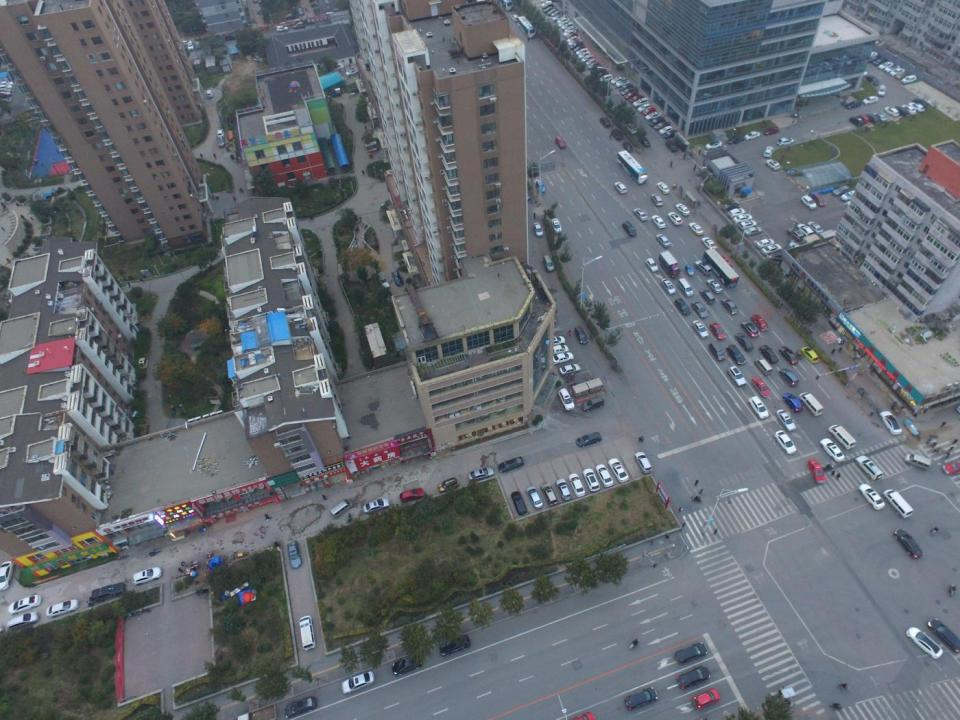bus: (703, 249, 740, 288), (615, 150, 648, 184), (517, 16, 536, 38), (499, 0, 516, 12)
car: (905, 626, 943, 659), (929, 617, 960, 651), (892, 529, 924, 559), (676, 664, 711, 690), (625, 685, 659, 710), (341, 671, 374, 694), (89, 583, 125, 603), (675, 641, 707, 663), (284, 697, 317, 718), (392, 654, 422, 677), (439, 634, 470, 656), (691, 688, 720, 711), (8, 595, 41, 615), (820, 437, 845, 463), (859, 483, 883, 509), (854, 456, 880, 480), (773, 431, 797, 456), (46, 599, 79, 617), (775, 408, 798, 432), (133, 567, 162, 586), (880, 410, 902, 435), (746, 396, 768, 420), (286, 540, 302, 572), (608, 458, 628, 483), (575, 430, 602, 448), (362, 496, 390, 513), (596, 464, 614, 490), (467, 466, 494, 483), (583, 468, 601, 493), (808, 459, 826, 484), (568, 472, 585, 498), (0, 562, 16, 589), (497, 456, 524, 472), (526, 485, 542, 511), (580, 396, 605, 412), (782, 391, 802, 411), (759, 344, 779, 364), (634, 452, 652, 474), (727, 343, 745, 365), (558, 388, 574, 412), (753, 376, 772, 396), (740, 320, 760, 339), (511, 490, 526, 515), (543, 482, 558, 507), (779, 346, 797, 366), (750, 314, 770, 332), (555, 479, 571, 501), (801, 347, 820, 365), (735, 333, 753, 351), (439, 476, 459, 492), (721, 298, 738, 316), (694, 259, 712, 276), (692, 301, 708, 320), (400, 488, 425, 500), (710, 322, 726, 340), (693, 320, 709, 338), (706, 278, 722, 296), (574, 326, 589, 344), (674, 299, 692, 314), (552, 352, 576, 363), (560, 362, 580, 375), (662, 277, 675, 297), (699, 288, 715, 304), (800, 195, 817, 210), (762, 243, 781, 256), (841, 188, 860, 201), (720, 255, 734, 272), (941, 463, 960, 475), (656, 234, 672, 248), (623, 220, 637, 236), (770, 249, 784, 265), (813, 194, 827, 210), (701, 237, 718, 250), (807, 221, 824, 234), (732, 213, 752, 224), (882, 106, 900, 118), (634, 208, 648, 223), (674, 203, 690, 216), (764, 124, 780, 137), (551, 217, 563, 234), (788, 228, 805, 240), (552, 346, 570, 357), (912, 98, 930, 109), (668, 213, 683, 226), (688, 223, 703, 236), (646, 258, 658, 274), (766, 159, 782, 171), (863, 74, 879, 86), (554, 136, 568, 149), (613, 182, 627, 195), (651, 216, 665, 229), (798, 223, 812, 236), (738, 220, 756, 230), (649, 116, 667, 126), (848, 116, 864, 127), (744, 130, 760, 141), (908, 102, 924, 113), (744, 226, 761, 236), (651, 194, 664, 207), (789, 241, 802, 254), (610, 129, 624, 141), (894, 105, 908, 117), (533, 222, 544, 237), (646, 112, 661, 123), (832, 186, 850, 195), (727, 136, 745, 145), (777, 137, 795, 146), (844, 196, 860, 206), (862, 96, 878, 106), (663, 129, 677, 140), (728, 209, 745, 218), (666, 140, 678, 152), (722, 202, 740, 210), (864, 115, 880, 124), (880, 61, 892, 73), (599, 117, 612, 128), (654, 121, 668, 131), (634, 98, 648, 108), (630, 94, 644, 104), (756, 240, 773, 248), (706, 140, 723, 148), (890, 67, 907, 75), (845, 100, 860, 109), (622, 142, 634, 153), (658, 182, 668, 195), (883, 66, 899, 74), (552, 336, 566, 345), (763, 146, 773, 158), (896, 71, 908, 81), (873, 58, 888, 66), (858, 69, 871, 78), (564, 25, 577, 34), (561, 21, 574, 30), (623, 90, 637, 98), (611, 77, 627, 84), (643, 106, 654, 116), (582, 54, 592, 65), (556, 17, 566, 28), (578, 50, 590, 59), (565, 31, 577, 40), (620, 87, 633, 95), (904, 105, 915, 114), (545, 8, 556, 17), (345, 69, 359, 76), (878, 112, 886, 124), (659, 126, 671, 134), (638, 103, 650, 111), (601, 72, 613, 80), (553, 16, 565, 24), (878, 85, 885, 98), (570, 43, 583, 50), (542, 0, 552, 9), (641, 135, 649, 146), (859, 115, 871, 122), (866, 51, 878, 58), (618, 80, 630, 87), (588, 63, 600, 70), (586, 58, 596, 66), (218, 139, 225, 150), (206, 89, 214, 98), (276, 26, 288, 32), (542, 6, 554, 12), (294, 22, 304, 29), (577, 49, 587, 56), (569, 38, 580, 44), (550, 11, 559, 18), (870, 55, 878, 62), (285, 15, 296, 20), (573, 46, 584, 51), (298, 7, 304, 16), (512, 14, 518, 22), (218, 129, 223, 138)
truck: (659, 250, 681, 281), (236, 705, 278, 719)
van: (883, 488, 914, 518), (828, 423, 854, 450), (799, 392, 823, 418), (4, 610, 40, 627), (903, 452, 933, 470), (298, 616, 314, 648), (726, 366, 747, 388), (780, 367, 802, 387), (330, 499, 352, 518), (708, 341, 726, 363), (755, 359, 773, 377), (678, 278, 693, 298), (544, 256, 555, 274), (902, 76, 917, 84), (537, 180, 545, 194), (187, 42, 194, 49), (180, 40, 188, 46)
